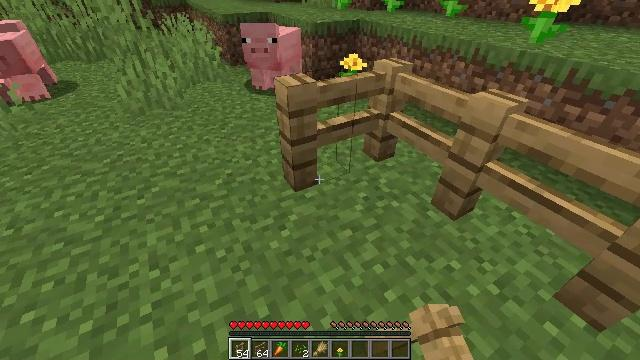pig: (0, 21, 56, 101), (239, 24, 300, 89)
